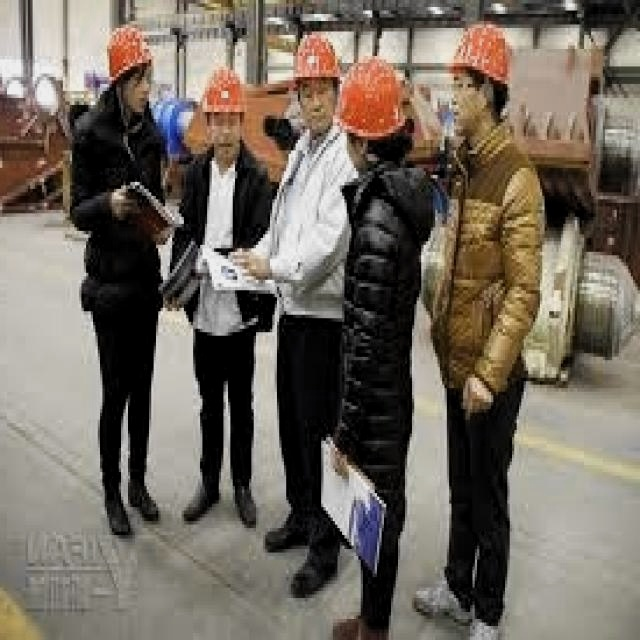Con_Casco: (203, 63, 245, 165)
